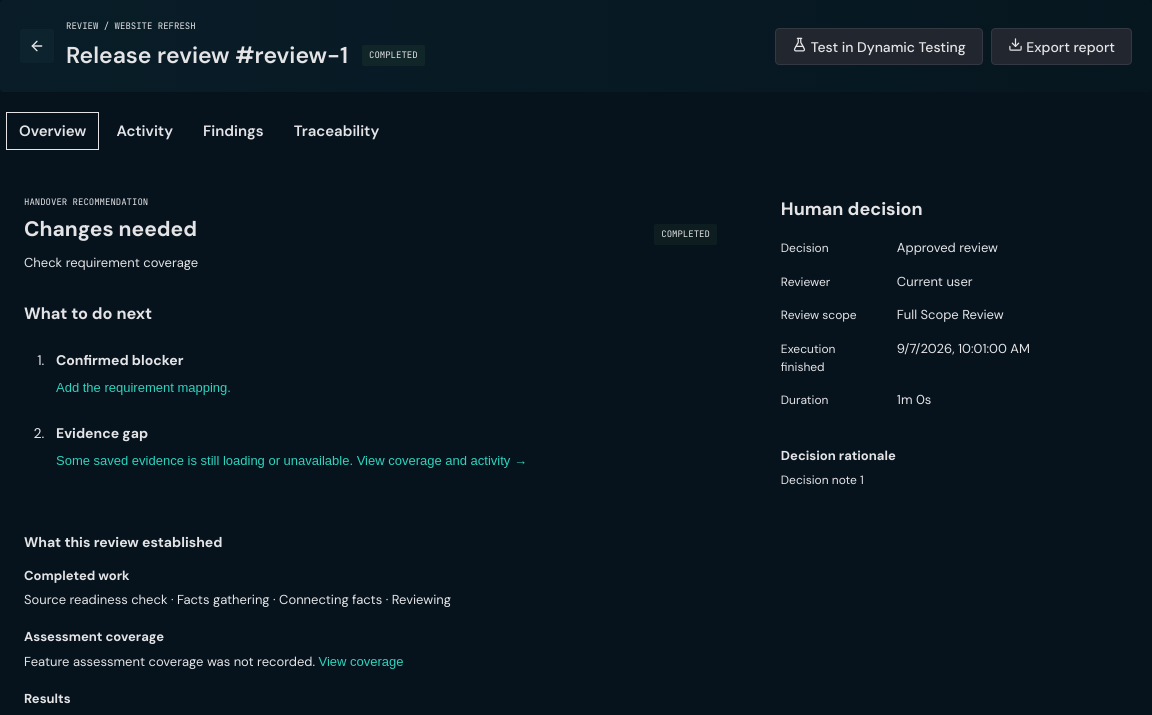
Test: ReviewActivityScreen › keeps earlier recorded feedback visible beyond the latest three decisions
The width and height of the screenshot is (1152, 715).
Expected: the heading "Changes needed" is shown, [24,214,198,245]
Click the tab "Activity" at (145, 131), box [103,112,186,150]
(page scrolled)
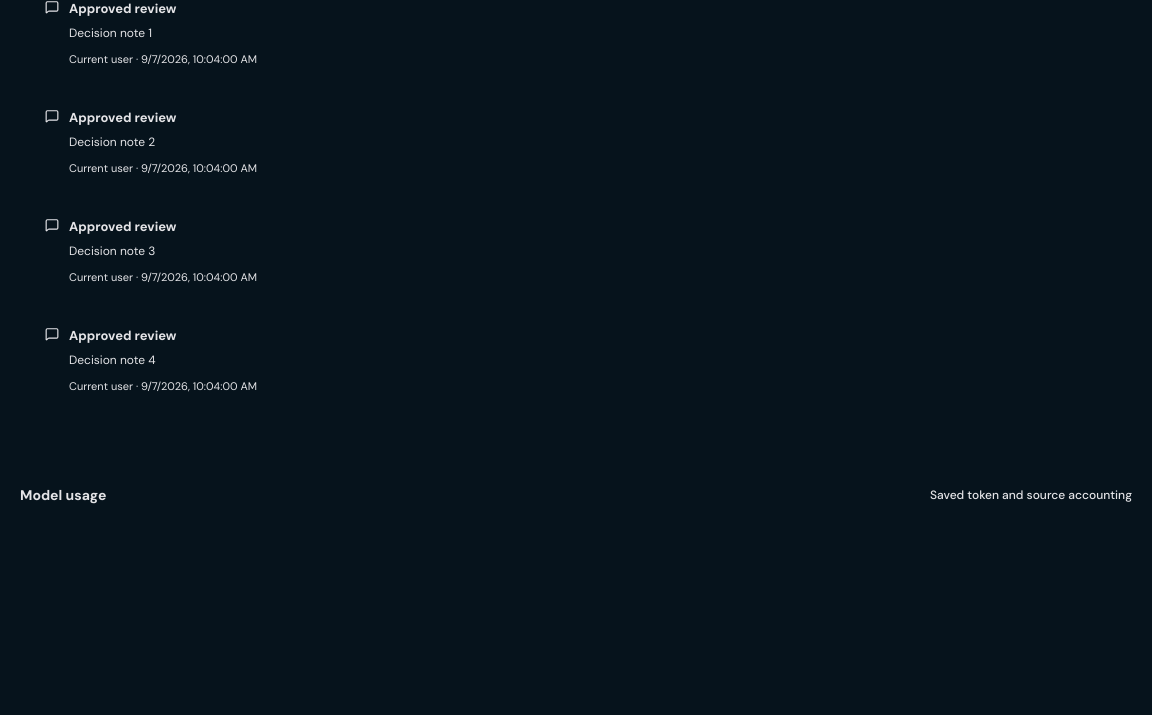
Result: the text "Decision note 4" is shown at [69,352,156,368]
